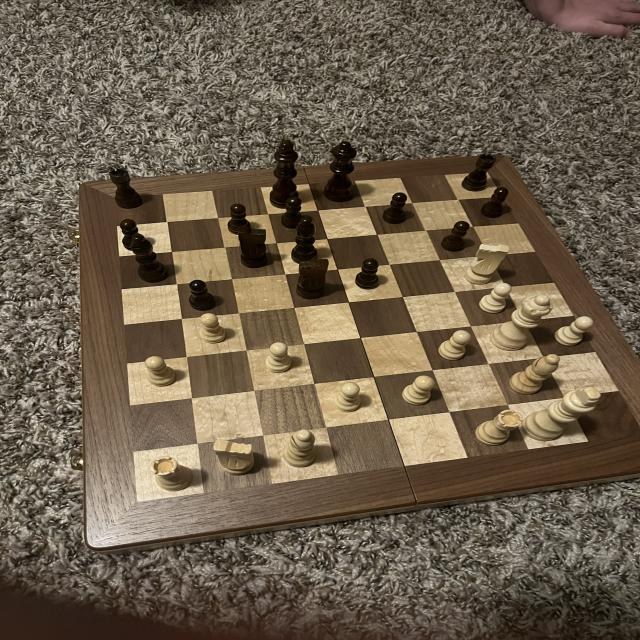bishop: (128, 232, 172, 285), (287, 213, 322, 266)
black-bishop: (268, 136, 305, 212)
black-king: (292, 257, 334, 301), (234, 225, 274, 270)
black-knight: (380, 190, 412, 227), (439, 219, 472, 254), (479, 186, 511, 220), (353, 256, 383, 292), (188, 278, 218, 312), (118, 217, 145, 251), (278, 196, 306, 228), (226, 201, 252, 235)
black-pawn: (323, 137, 361, 206)
black-queen: (107, 166, 149, 211), (459, 151, 501, 195)
black-rook: (507, 352, 563, 396), (282, 428, 321, 469)
white-bishop: (519, 385, 606, 444)
white-king: (465, 241, 511, 285), (210, 437, 259, 477)
white-knight: (552, 314, 598, 346), (434, 326, 473, 362), (195, 311, 230, 347), (477, 282, 516, 314), (400, 373, 436, 407), (141, 355, 178, 387), (261, 340, 295, 373), (332, 381, 363, 414)
white-pawn: (486, 292, 556, 353)
white-queen: (472, 409, 525, 447), (147, 454, 196, 494)
